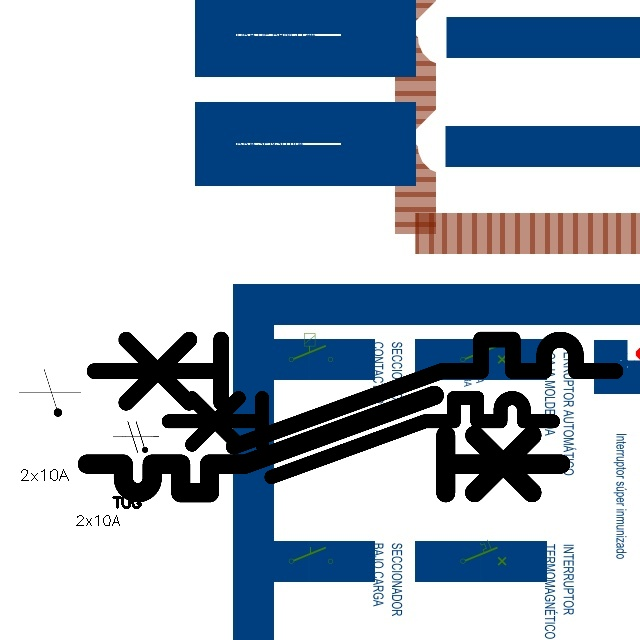interruptor_termomagnetico: (81, 326, 629, 460), (75, 383, 573, 505), (158, 388, 562, 487)
